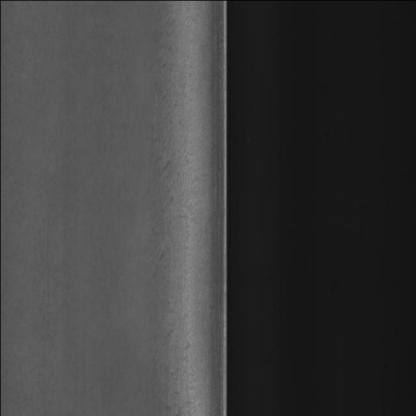silk_spot: (151, 31, 211, 395)
